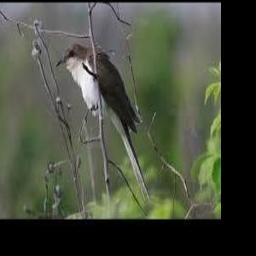Cuckoo: (56, 41, 151, 204)
